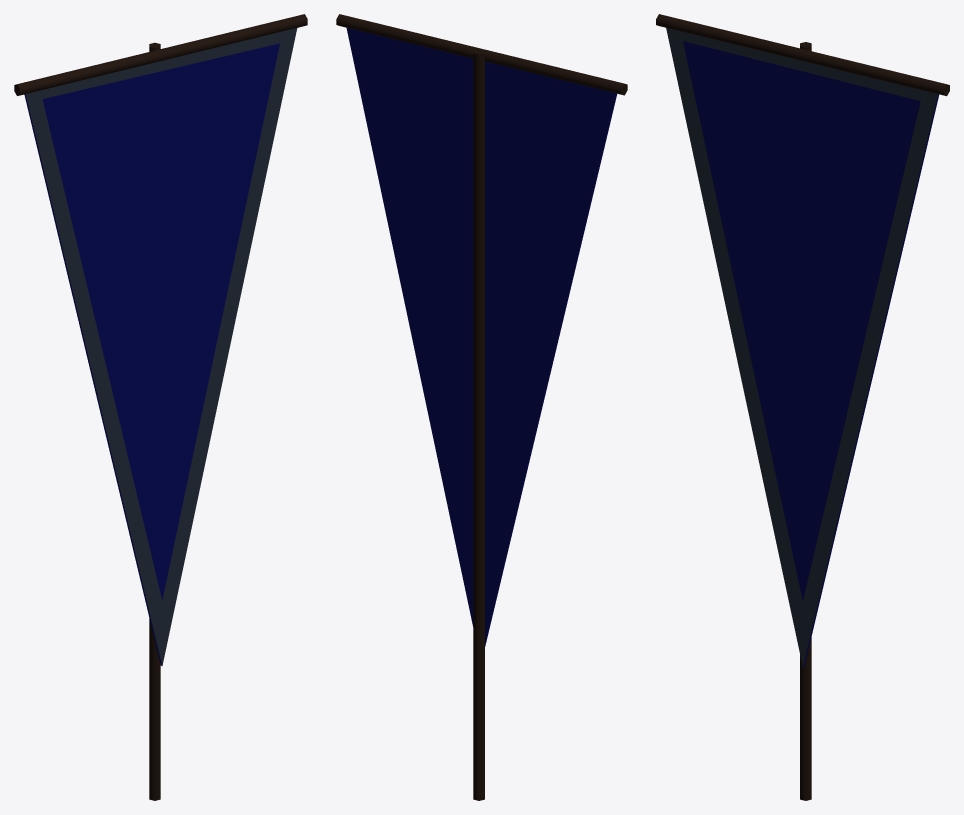
The model's file is Banner 002.FBX.
The picture shows the model from 3 angles, left to right: view 1: azimuth 30°, elevation 25°; view 2: azimuth 150°, elevation 25°; view 3: azimuth 330°, elevation 25°; orthographic projection.
Parts seen in each view (by area): view 1: Banner, Banner Stand003, Banner Stand002; view 2: Banner, Banner Stand002, Banner Stand003; view 3: Banner, Banner Stand003, Banner Stand002.
Boxes of the visible parts, bbox=[...] form: Banner: bbox=[24, 28, 297, 665]; Banner Stand003: bbox=[14, 14, 307, 95]; Banner Stand002: bbox=[149, 42, 160, 800]; Banner: bbox=[346, 27, 617, 646]; Banner Stand002: bbox=[473, 49, 484, 800]; Banner Stand003: bbox=[336, 14, 627, 95]; Banner: bbox=[666, 27, 939, 666]; Banner Stand003: bbox=[656, 14, 949, 96]; Banner Stand002: bbox=[800, 42, 811, 800].
Bounding box in the file's own units: 1 × 2.5 × 0.0613.
